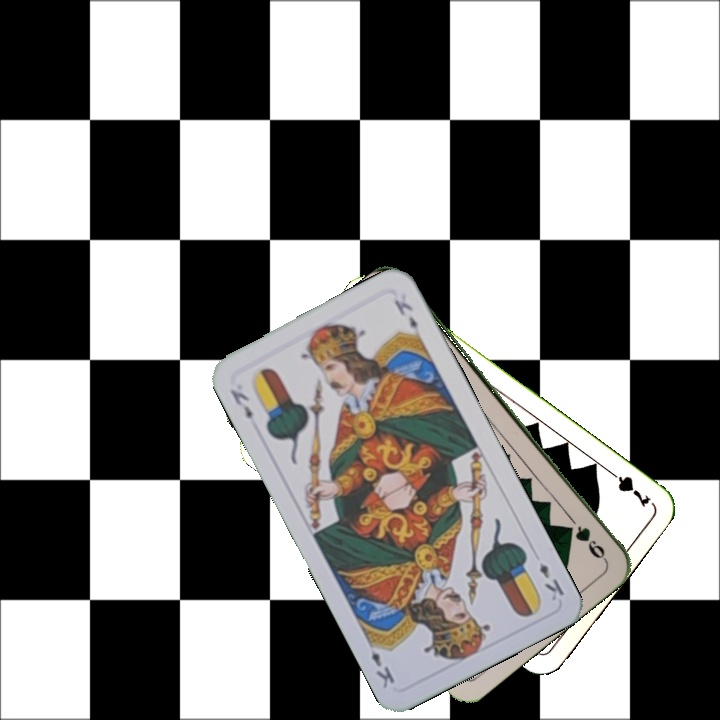EK: (535, 558, 567, 604), (226, 385, 255, 422)
G7: (602, 464, 654, 511)
G9: (571, 521, 610, 564)
